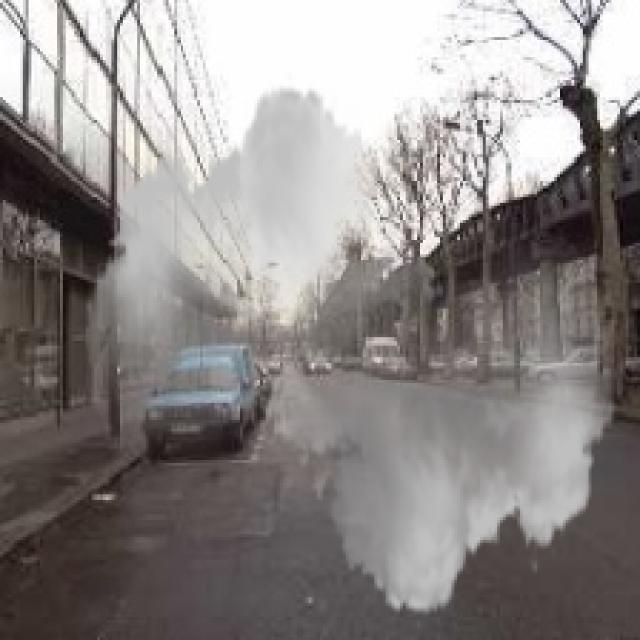smoke: (86, 69, 623, 632)
